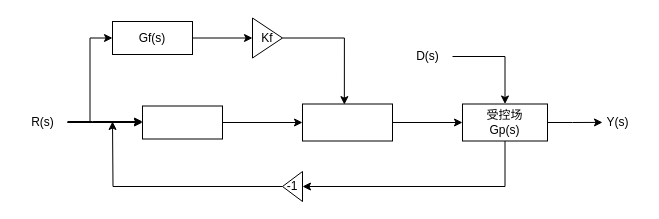
Image size: 659x219. Some labels were removed from this diagram. Here are the shapes that lost their labels. From the top down, the centre of each, then its label:
[182,122]: 控制器 Gc(s)
[347,122]: 功率转换器 Gpc(s)
